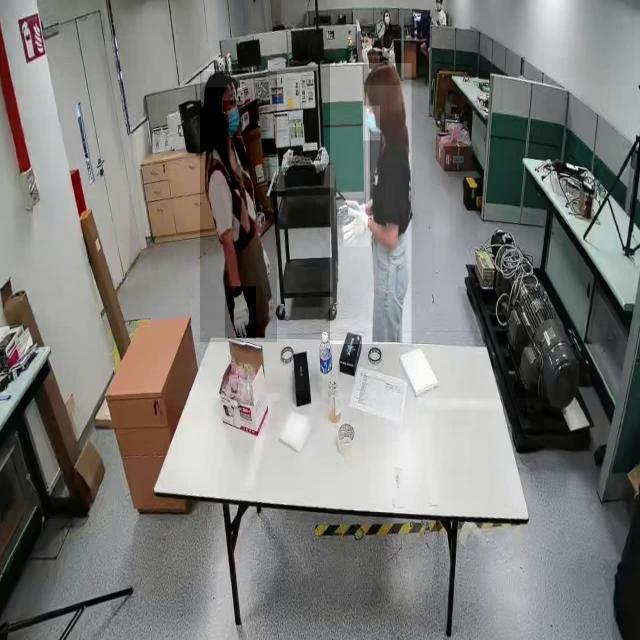gloves: (226, 286, 256, 340), (344, 205, 371, 248), (337, 198, 365, 226)
